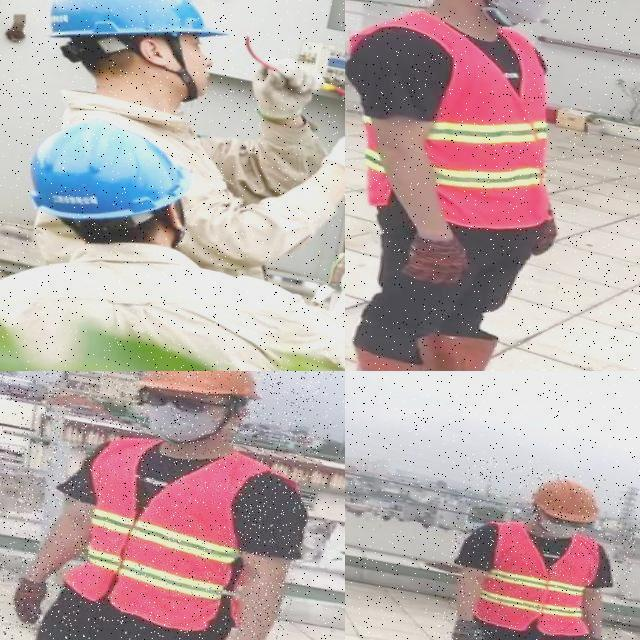boots: (405, 326, 553, 371)
helmet: (11, 100, 211, 248), (34, 0, 249, 78), (132, 371, 275, 415), (524, 470, 608, 528)
vest: (345, 0, 577, 238), (56, 425, 274, 640), (471, 519, 608, 640)
